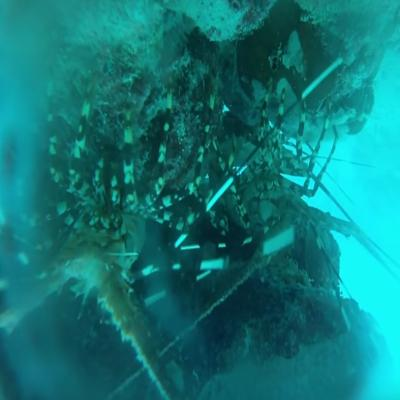lobster: (45, 162, 145, 310), (241, 124, 322, 239)
